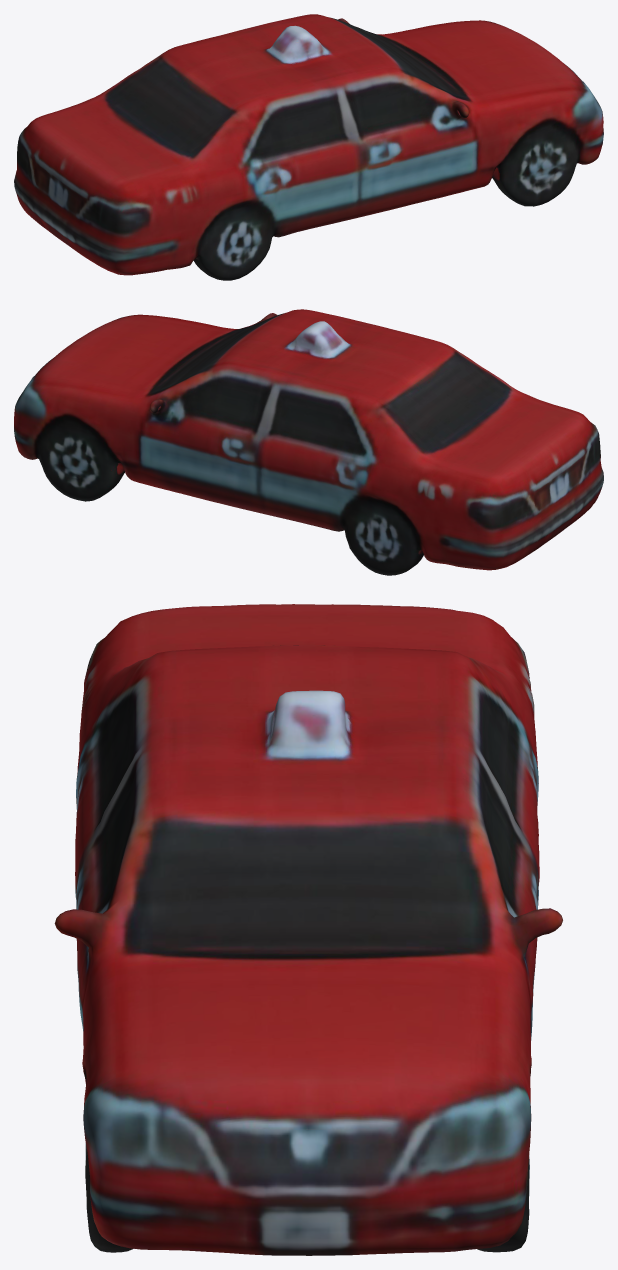
File: Taxi.glb
The picture shows the model from 3 angles, top to bottom: view 1: azimuth 30°, elevation 25°; view 2: azimuth 150°, elevation 25°; view 3: azimuth 270°, elevation 25°; orthographic projection. The views are drawn at different scales.
Parts seen in each view (by area): view 1: mesh; view 2: mesh; view 3: mesh.
Boxes of the visible parts, x1,y1,x2,y2 form: mesh: (14,14,603,280); mesh: (14,309,603,575); mesh: (54,604,562,1255).
Bounding box in the file's own units: 0.9998 × 0.3403 × 0.4256.
1 material, 1 textured.
